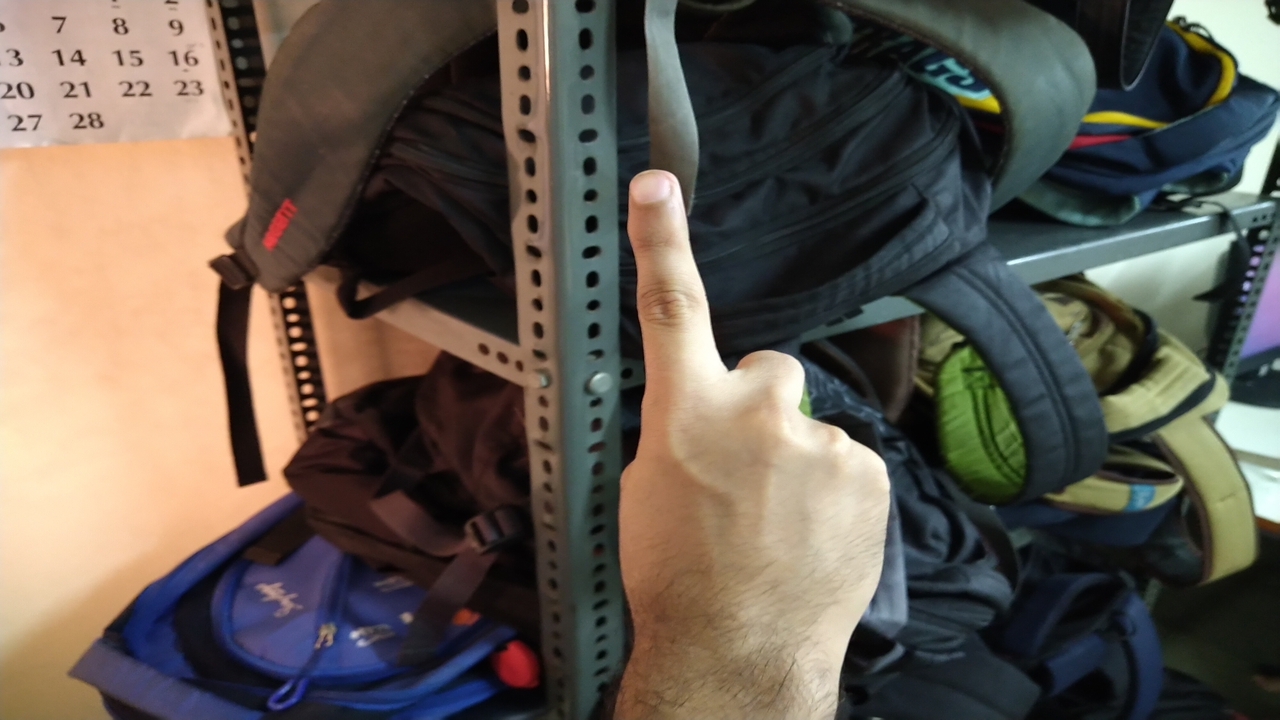fingertip: (620, 162, 686, 224)
